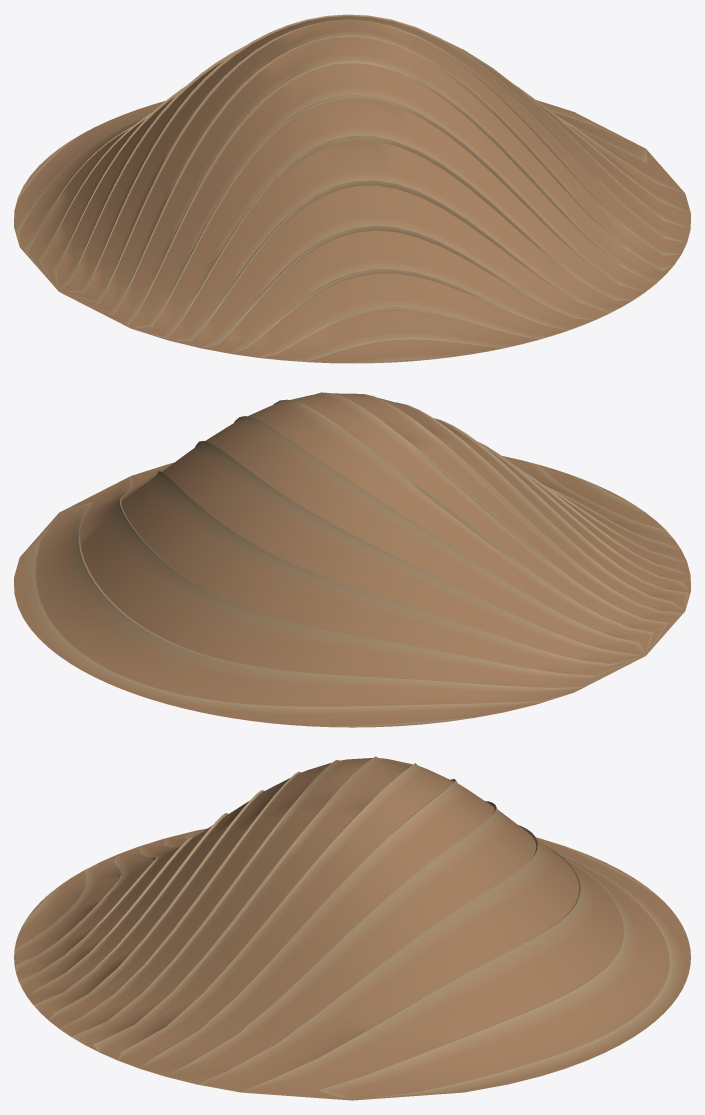
Rendered from wave_dome.glb.
3 views of the same model, one above another, from view 1: azimuth 30°, elevation 25°; view 2: azimuth 150°, elevation 25°; view 3: azimuth 270°, elevation 25° (orthographic).
Visible parts, largest first — view 1: wave_dome_rock; view 2: wave_dome_rock; view 3: wave_dome_rock.
Boxes of the visible parts, left/top/right/bottom form: wave_dome_rock: left=14, top=14, right=690, bottom=363; wave_dome_rock: left=14, top=392, right=690, bottom=727; wave_dome_rock: left=14, top=756, right=690, bottom=1100.
Bounding box in the file's own units: 30 × 9 × 30.
